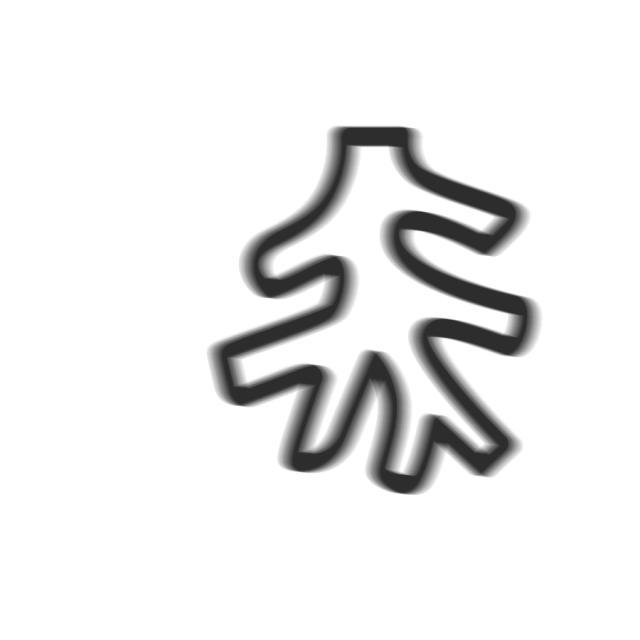coral: (201, 120, 550, 504)
